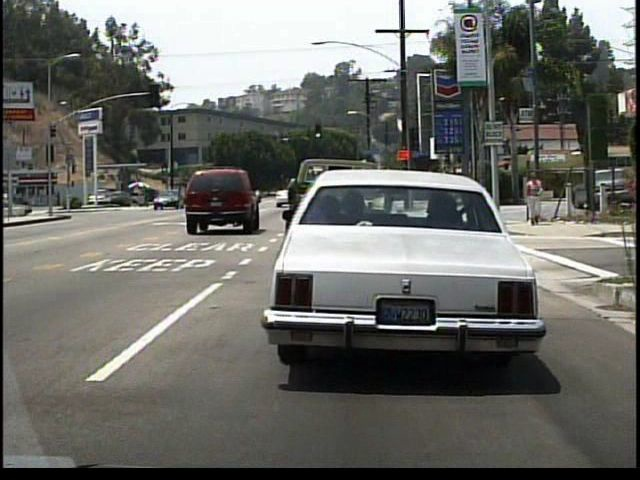person: (525, 172, 544, 230)
